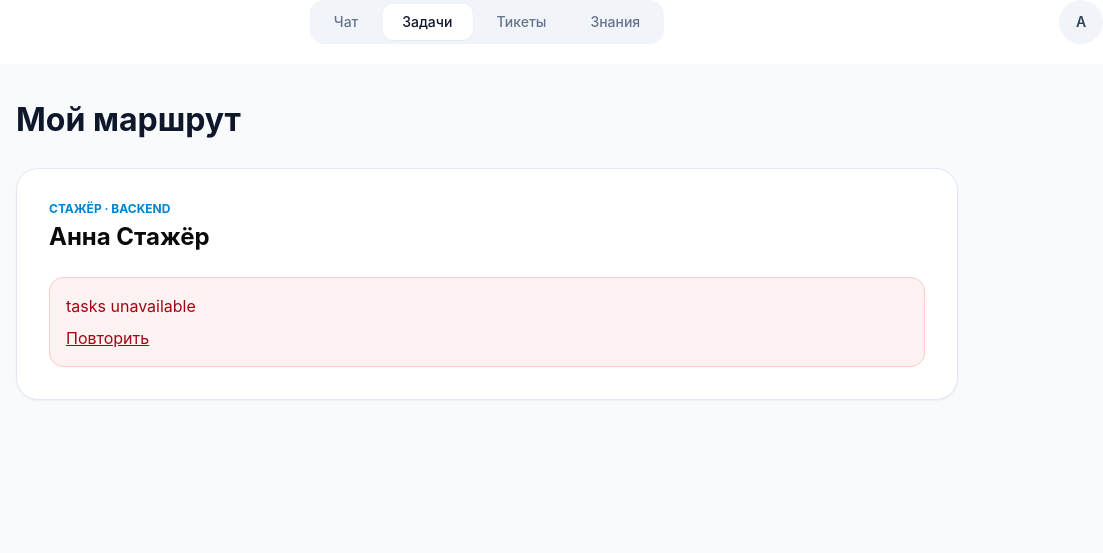
Test: recovers task list and completion failures, updating progress only after the API succeeds
The width and height of the screenshot is (1103, 553).
Expected: the text "tasks unavailable" is shown, x1=66 y1=296 x2=196 y2=316
Step 1. Click the button "Повторить" → x=108, y=338, box x1=66 y1=326 x2=149 y2=350
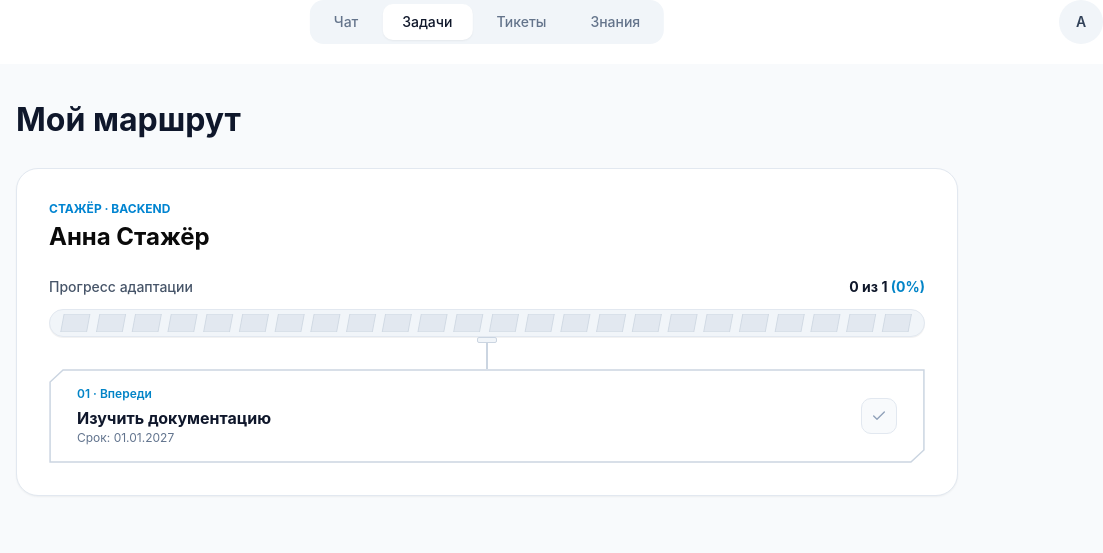
Step 2. Click the button named "Завершить задачу" → x=879, y=416, box x1=861 y1=398 x2=897 y2=434
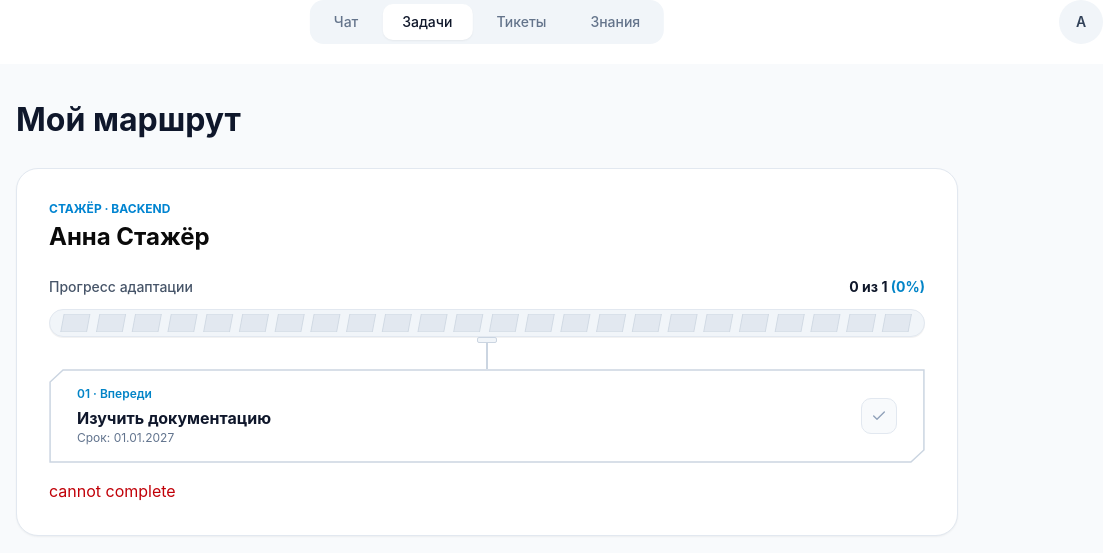
Now the text "cannot complete" is shown, box x1=49 y1=481 x2=176 y2=501
Step 3. Click the button named "Завершить задачу" → x=879, y=416, box x1=861 y1=398 x2=897 y2=434
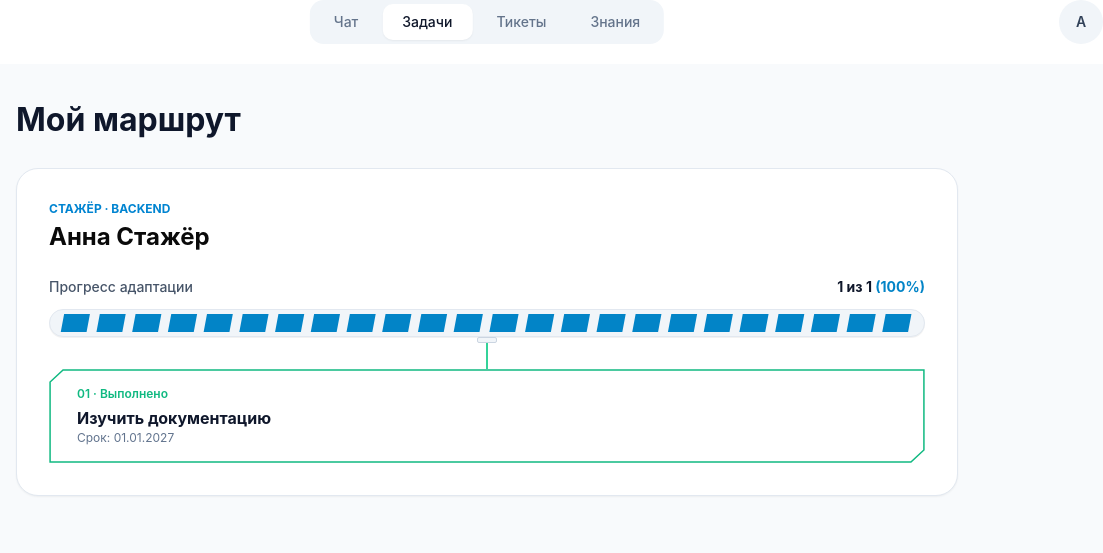
Now the text "01 · Выполнено" is shown, box x1=77 y1=386 x2=168 y2=401
